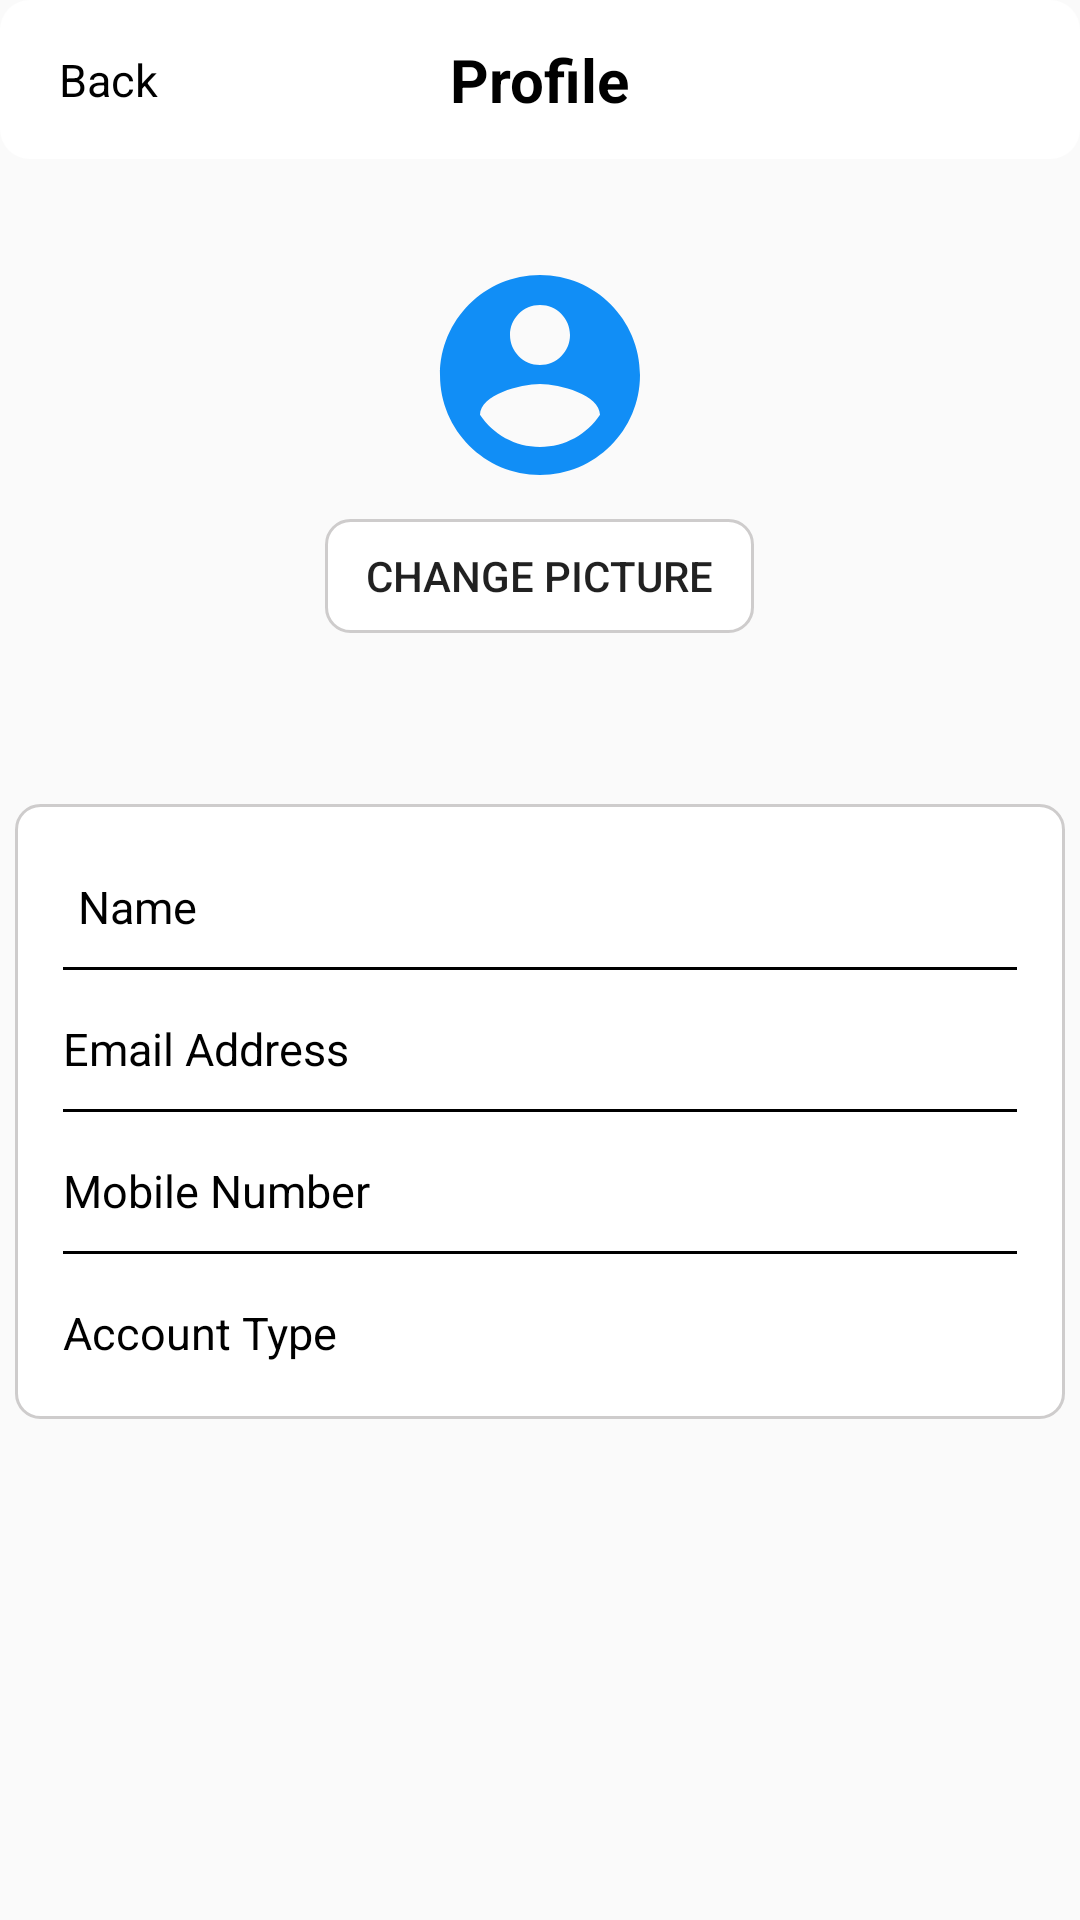

Screen size 1080w x 1920h. Icon name, then its box in pixels as region(x1, y1, x2, y2):
account circle: region(439, 275, 640, 475)
